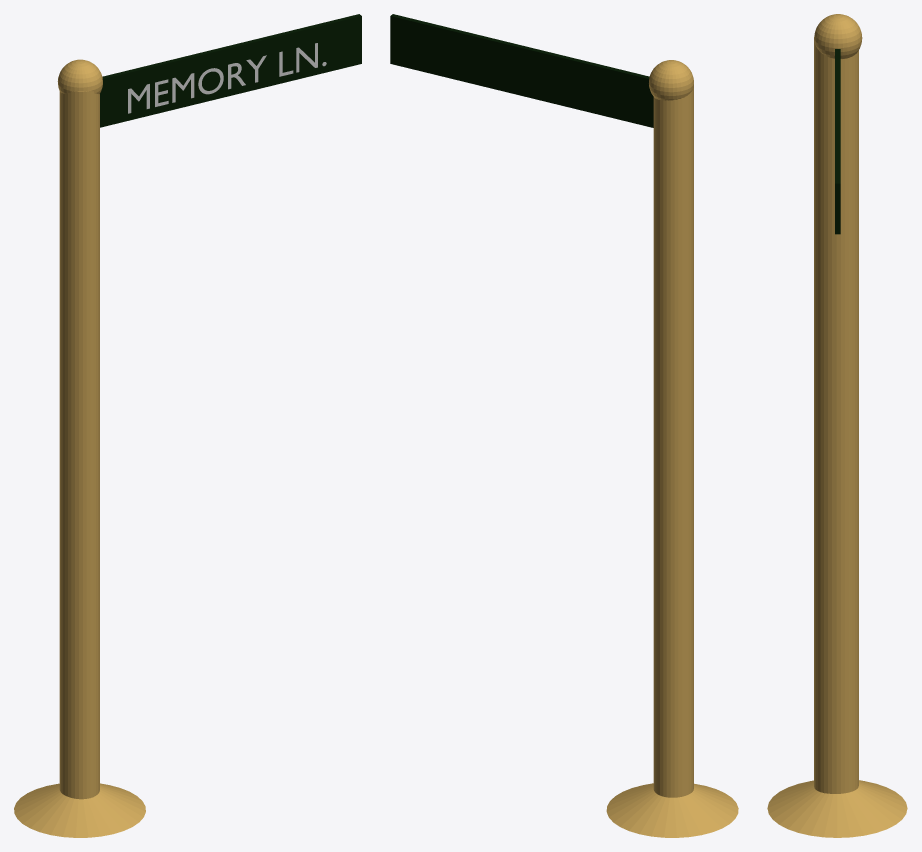
Rendered from street.obj.
The picture shows the model from 3 angles, left to right: view 1: azimuth 30°, elevation 25°; view 2: azimuth 150°, elevation 25°; view 3: azimuth 270°, elevation 25°; orthographic projection. The views are drawn at different scales.
Parts seen in each view (by area): view 1: Cylinder, Cube_Cube.001, Cone, Text, Sphere; view 2: Cylinder, Cube_Cube.001, Cone, Sphere; view 3: Cylinder, Cone, Sphere, Cube_Cube.001.
Boxes of the visible parts, x1,y1,x2,y2 form: Cylinder: (59, 90, 99, 799); Cube_Cube.001: (100, 14, 361, 127); Cone: (14, 783, 145, 837); Text: (128, 43, 326, 113); Sphere: (57, 59, 102, 93); Cylinder: (653, 85, 693, 797); Cube_Cube.001: (390, 14, 653, 127); Cone: (606, 783, 738, 837); Sphere: (649, 60, 693, 100); Cylinder: (814, 37, 858, 793); Cone: (767, 780, 907, 837); Sphere: (814, 14, 862, 58); Cube_Cube.001: (835, 49, 840, 234).
Size of the model in its own units: 1.48 by 3.12 by 0.5.
